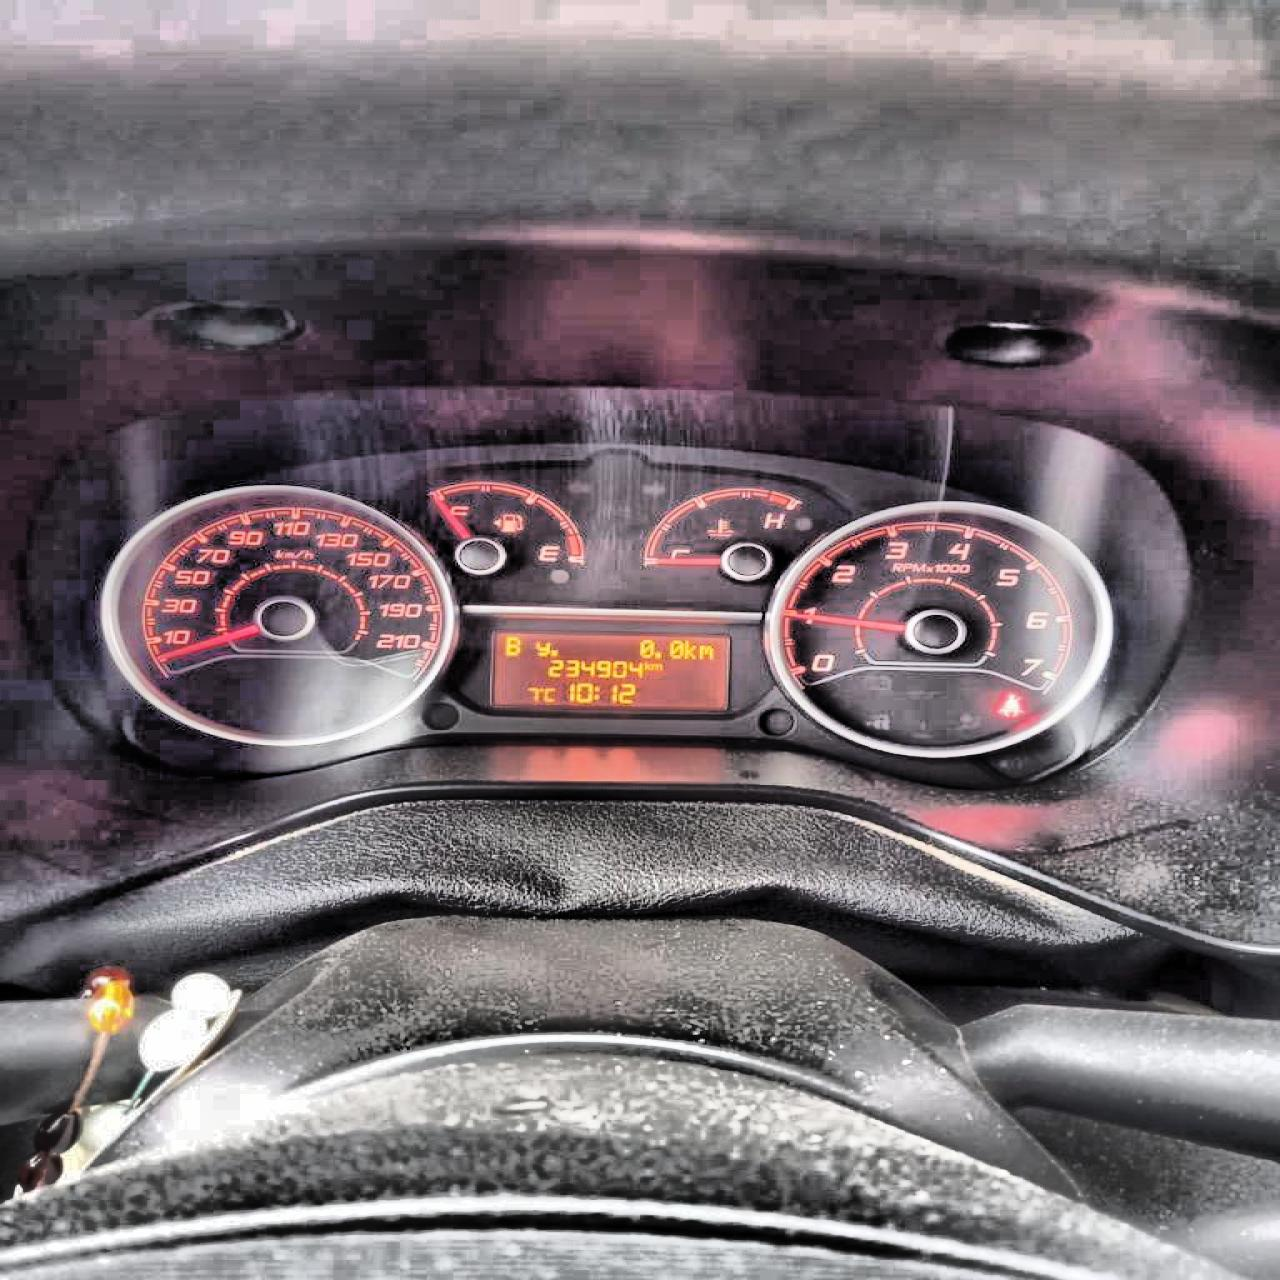-: (653, 651, 662, 659), (550, 647, 558, 656)
0: (576, 681, 592, 702), (636, 638, 653, 658), (612, 659, 626, 678), (668, 639, 682, 658)
1: (611, 682, 617, 702), (568, 682, 573, 702)
2: (618, 682, 635, 702), (549, 658, 561, 676)
3: (564, 658, 579, 678)
4: (579, 659, 593, 676), (628, 660, 641, 679)
7: (526, 686, 538, 700)
9: (595, 658, 610, 678)
X: (502, 635, 520, 655), (535, 640, 550, 658), (696, 642, 712, 659), (683, 639, 695, 659), (543, 687, 554, 701), (592, 683, 600, 699), (641, 659, 651, 670), (651, 661, 662, 670)
odometer: (486, 626, 734, 714)
